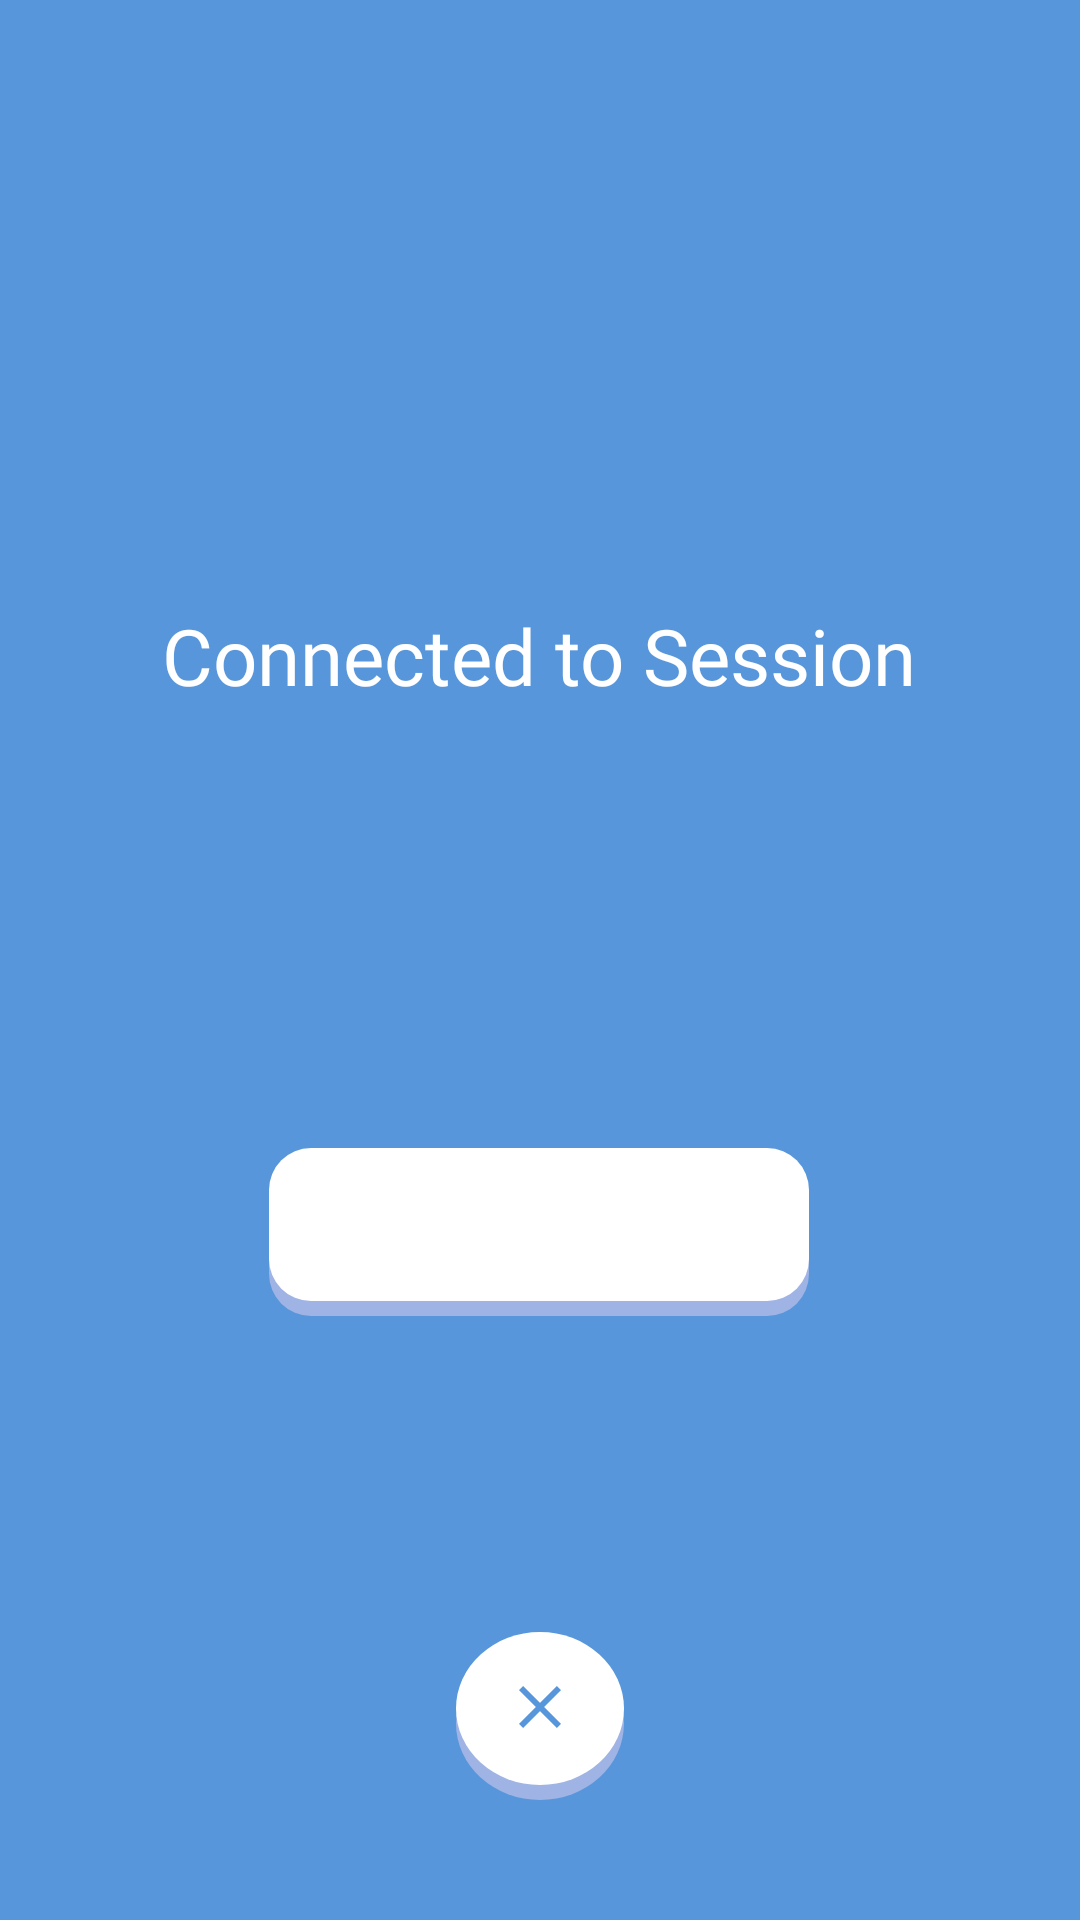

Icons on this 1080×1920 Android screen, each with the point to tap as (x,y):
Exit Dual Device session: (540,1716)
